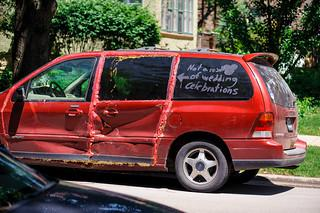Rear-windscreen-Damage: (244, 55, 300, 106)
doorouter-dent: (14, 56, 93, 162), (96, 56, 167, 167)
